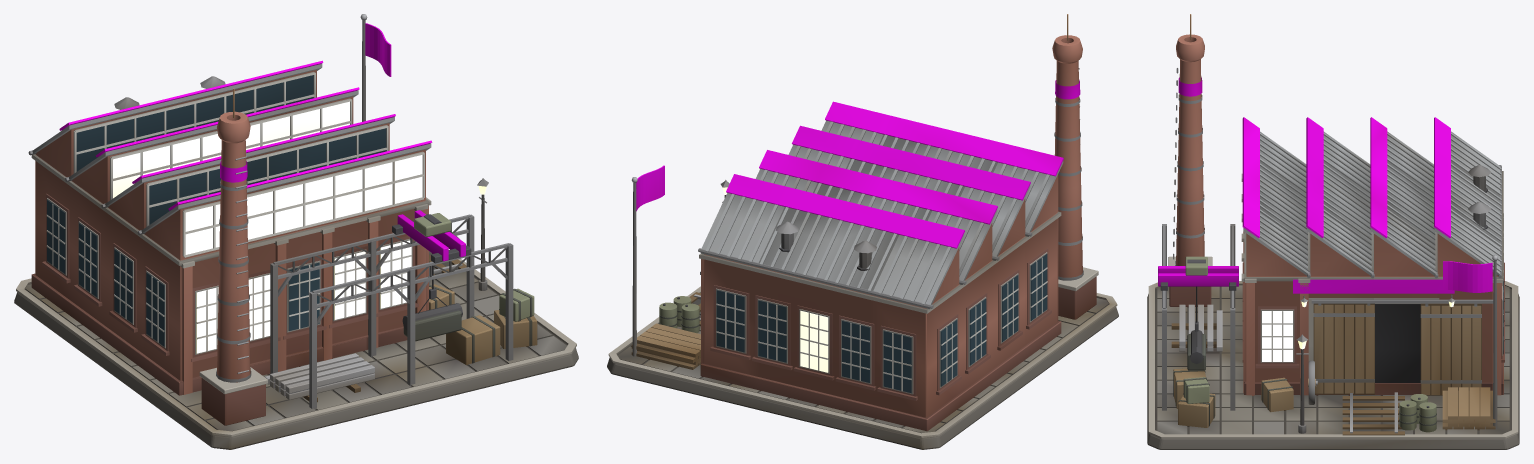
Rendered from factory_industrial.glb.
3 renders of one model, left to right at view 1: azimuth 30°, elevation 25°; view 2: azimuth 150°, elevation 25°; view 3: azimuth 270°, elevation 25°, orthographic. The views are drawn at different scales.
Visible parts, largest first — view 1: Body; view 2: Body; view 3: Body.
Part boxes in pixels (bbox=[...]): Body: bbox=[14, 14, 578, 449]; Body: bbox=[607, 14, 1118, 449]; Body: bbox=[1147, 14, 1519, 449].
Bounding box in the file's own units: 5.99 × 5.25 × 5.99.
1 material, 1 textured.
